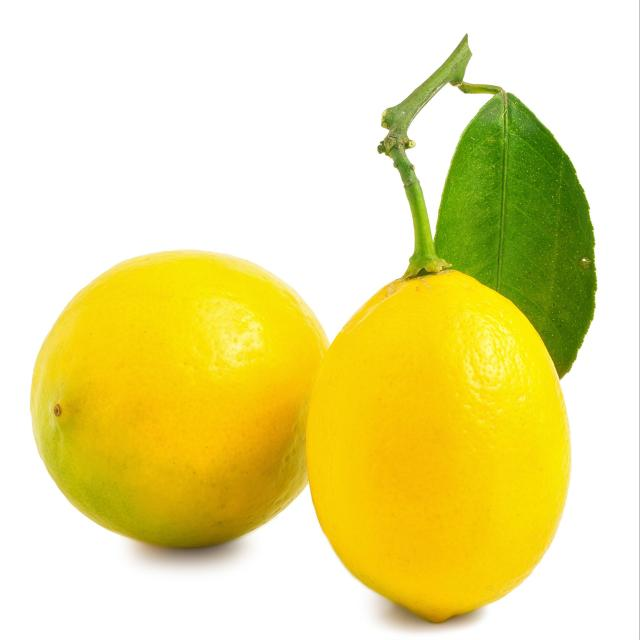lemon: (298, 256, 580, 628), (22, 244, 354, 557)
